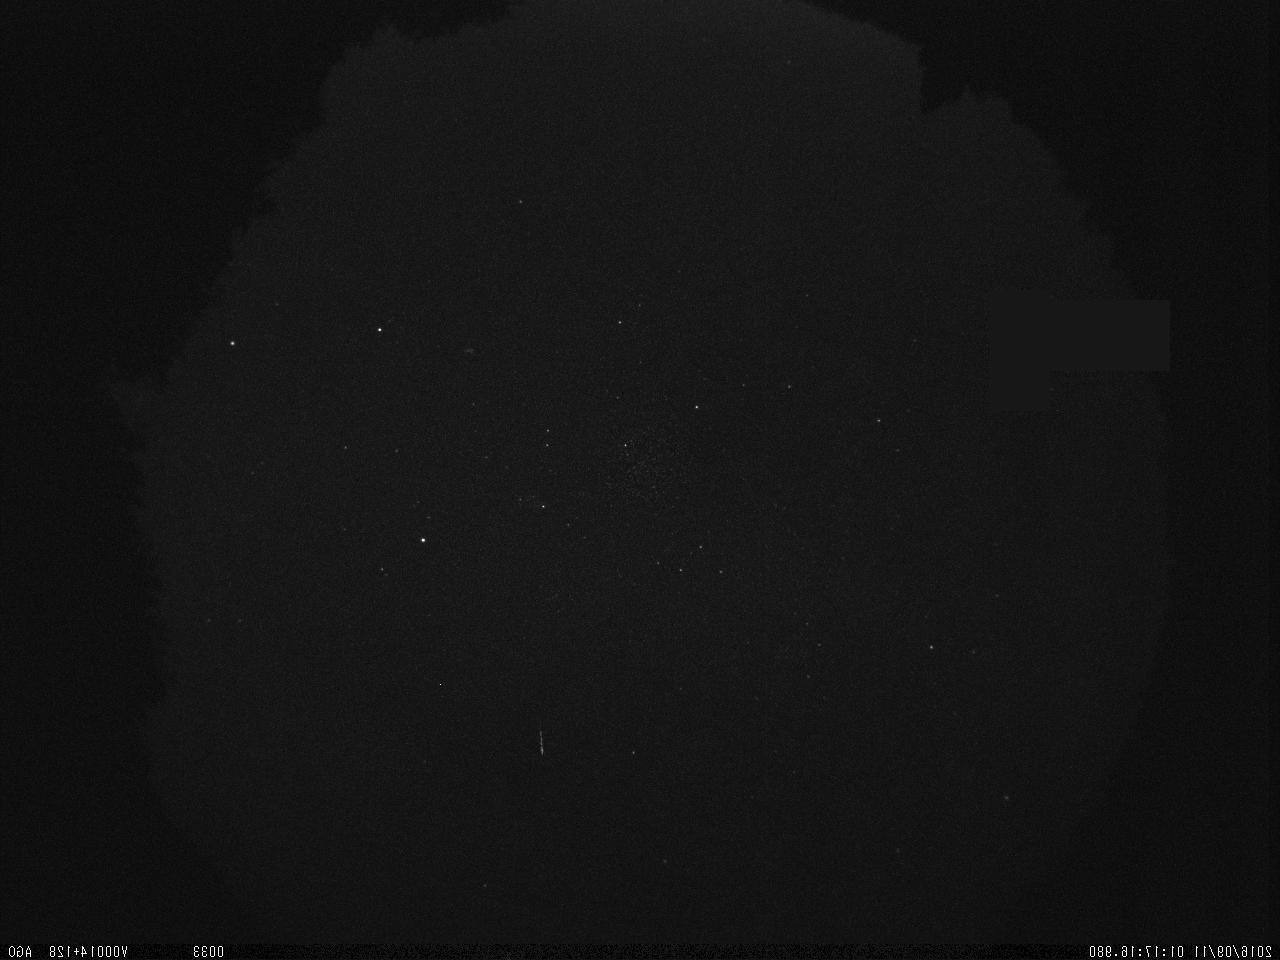meteor: (528, 715, 549, 783)
